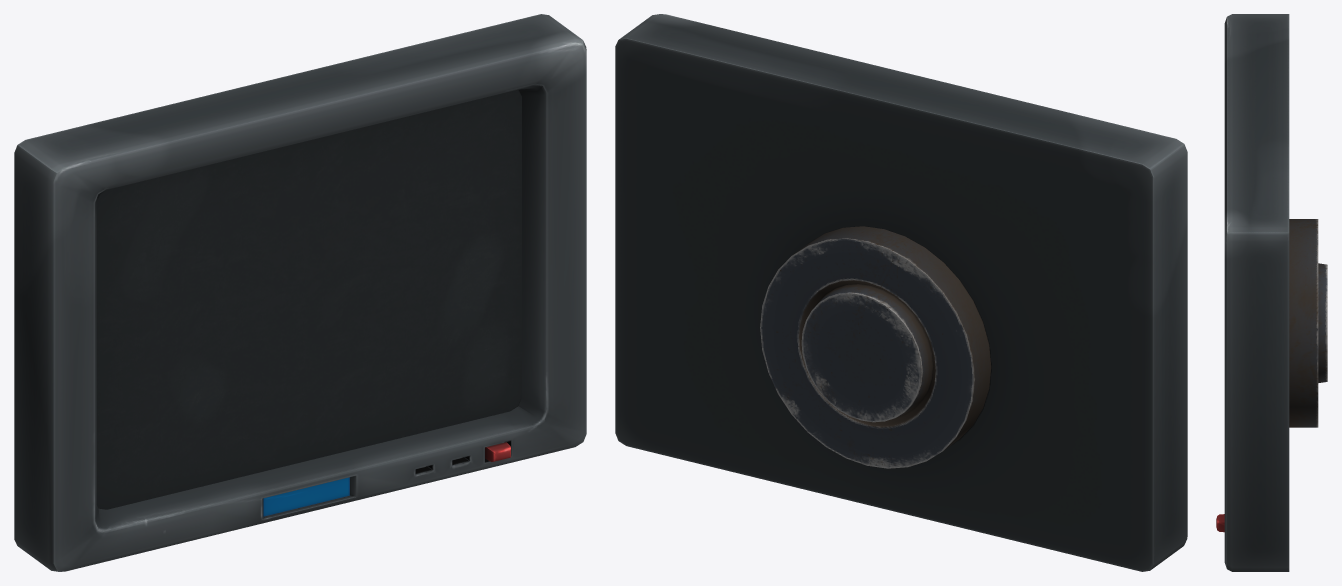
Rendered from Screen.fbx.
3 renders of one model, left to right at view 1: azimuth 30°, elevation 25°; view 2: azimuth 150°, elevation 25°; view 3: azimuth 270°, elevation 25°, orthographic. The views are drawn at different scales.
Visible parts, largest first — view 1: Cube.010; view 2: Cube.010; view 3: Cube.010.
Part boxes in pixels (bbox=[...]): Cube.010: bbox=[14, 14, 586, 571]; Cube.010: bbox=[615, 14, 1187, 571]; Cube.010: bbox=[1216, 14, 1327, 571].
Bounding box in the file's own units: 0.757 × 0.5474 × 0.1601.
